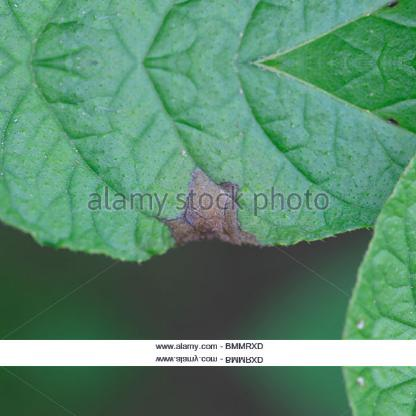Early-Blight: (27, 104, 377, 274)
